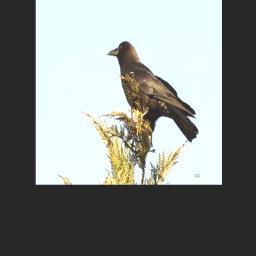Crow: (105, 37, 199, 147)
